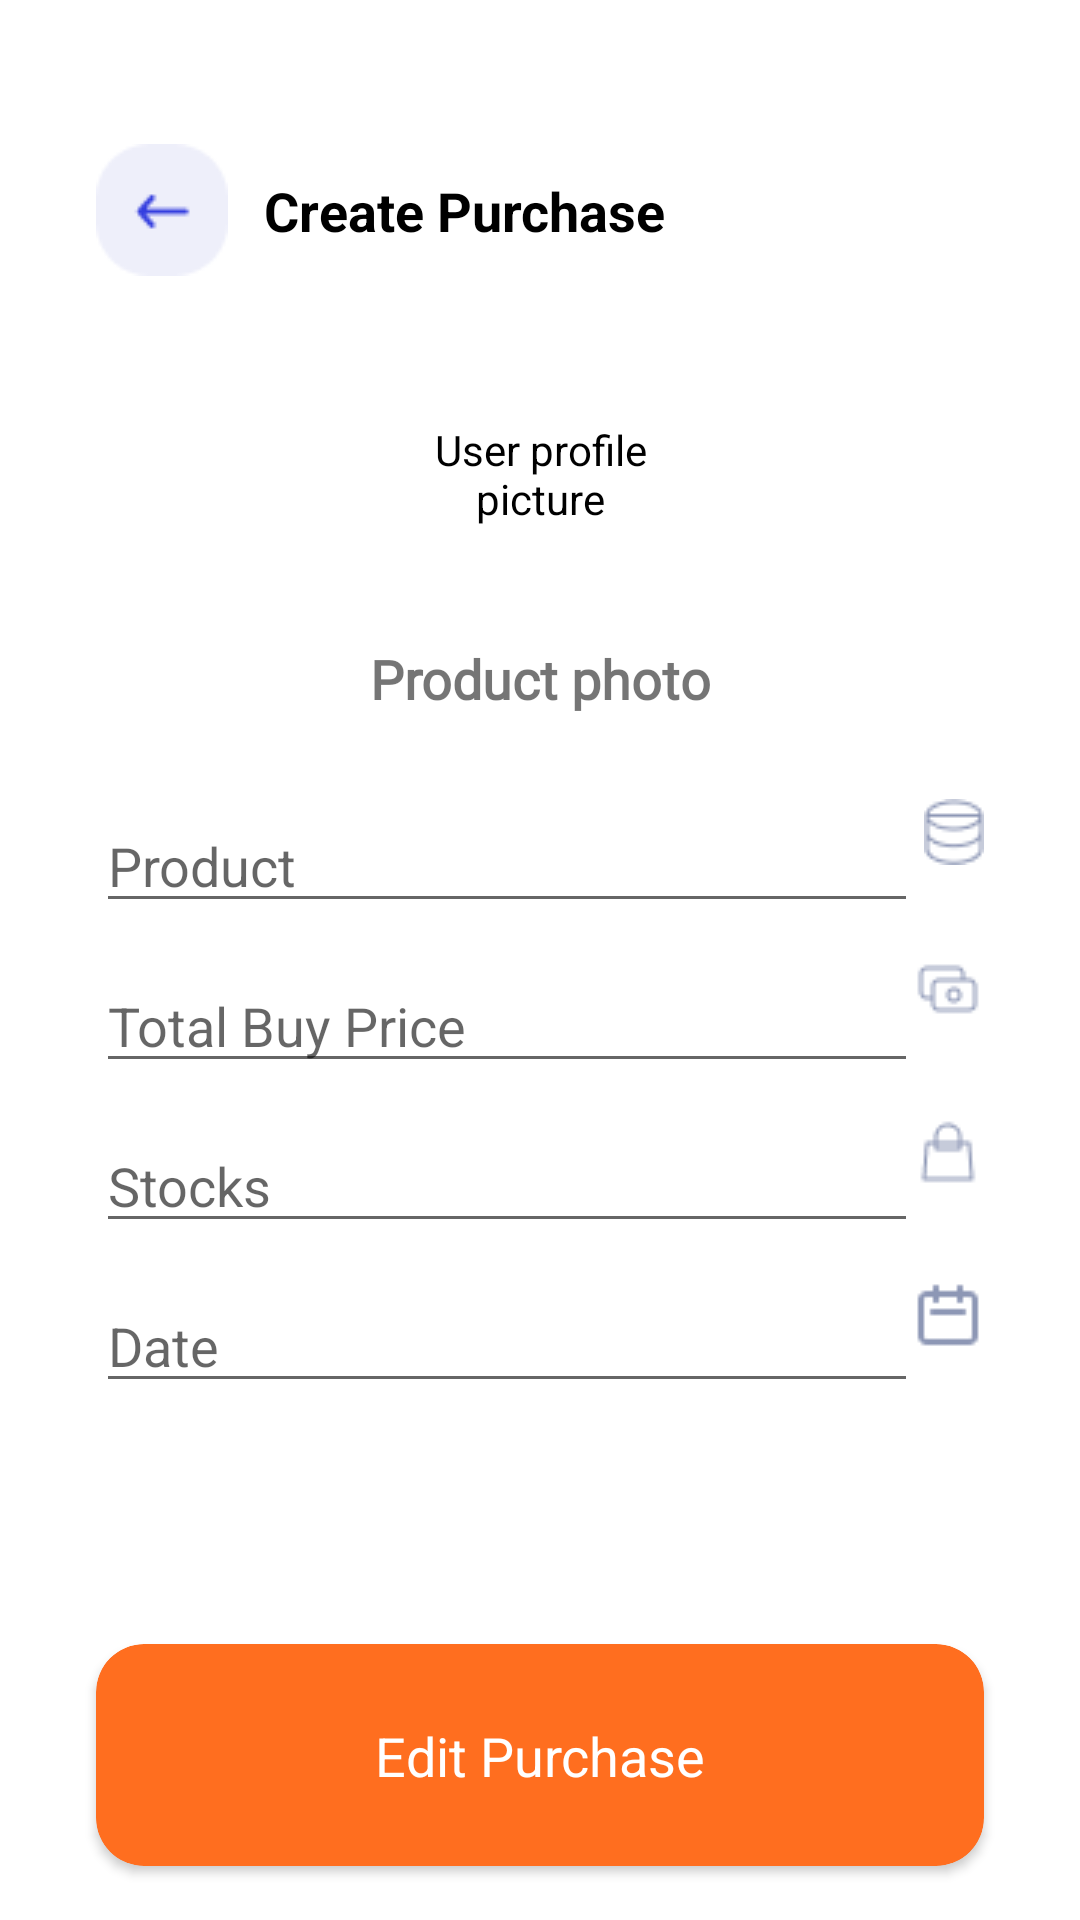

Icon click points for this 1080px×1920px phone screenshot, format point (x, y):
calendar: point (948, 1315)
